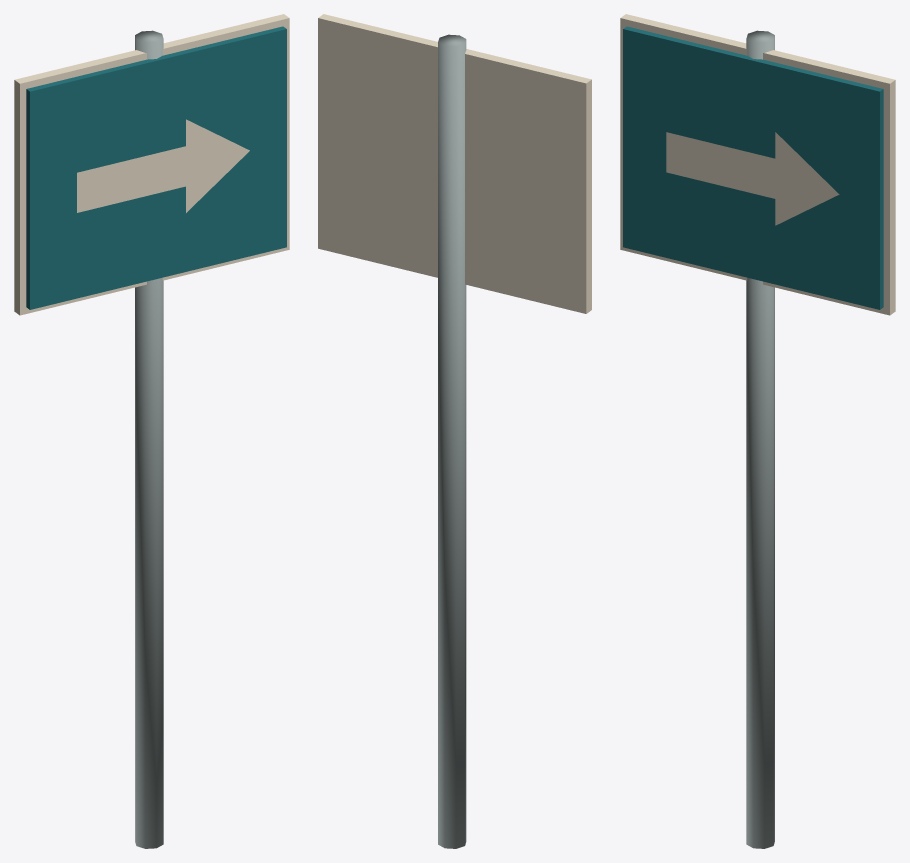
Rendered from oc_sign_01.glb.
3 views of the same model, side by side, from view 1: azimuth 30°, elevation 25°; view 2: azimuth 150°, elevation 25°; view 3: azimuth 330°, elevation 25° (orthographic).
Parts seen in each view (by area): view 1: LOD1_OC_Sign_Teal, LOD1_OC_Brushed_Metal, LOD1_OC_Stucco_Ivory; view 2: LOD1_OC_Stucco_Ivory, LOD1_OC_Brushed_Metal; view 3: LOD1_OC_Sign_Teal, LOD1_OC_Brushed_Metal, LOD1_OC_Stucco_Ivory.
Part boxes in pixels (x1,y1,x2,y2): LOD1_OC_Sign_Teal: (26,26,286,309); LOD1_OC_Brushed_Metal: (135,30,163,848); LOD1_OC_Stucco_Ivory: (14,14,289,315); LOD1_OC_Stucco_Ivory: (318,14,591,313); LOD1_OC_Brushed_Metal: (438,34,466,848); LOD1_OC_Sign_Teal: (623,26,883,309); LOD1_OC_Brushed_Metal: (746,30,774,848); LOD1_OC_Stucco_Ivory: (620,14,895,315).
Size of the model in its own units: 0.84 by 2.4 by 0.1.
